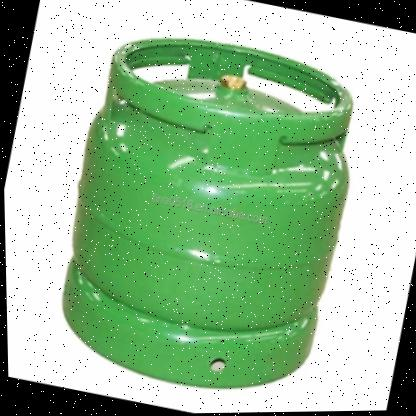gas-tank: (14, 0, 397, 415)
